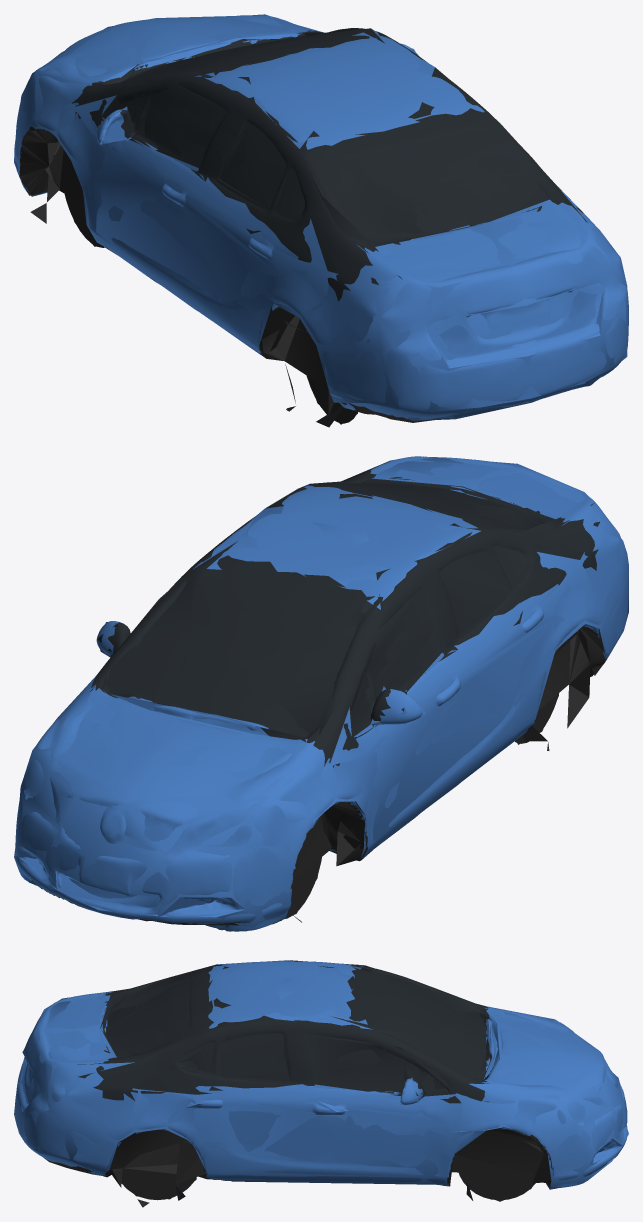
The model's file is buick-verano.glb.
3 renders of one model, top to bottom at view 1: azimuth 30°, elevation 25°; view 2: azimuth 150°, elevation 25°; view 3: azimuth 270°, elevation 25°, orthographic. The views are drawn at different scales.
Visible parts, largest first — view 1: body, far; view 2: body, far; view 3: body, far.
Part boxes in pixels (<box>): body: <box>14,15,628,427</box>; far: <box>14,14,627,425</box>; body: <box>15,456,628,931</box>; far: <box>14,456,628,928</box>; body: <box>14,961,627,1207</box>; far: <box>14,960,628,1201</box>.
Bounding box in the file's own units: 2.05 × 1.52 × 4.71.
